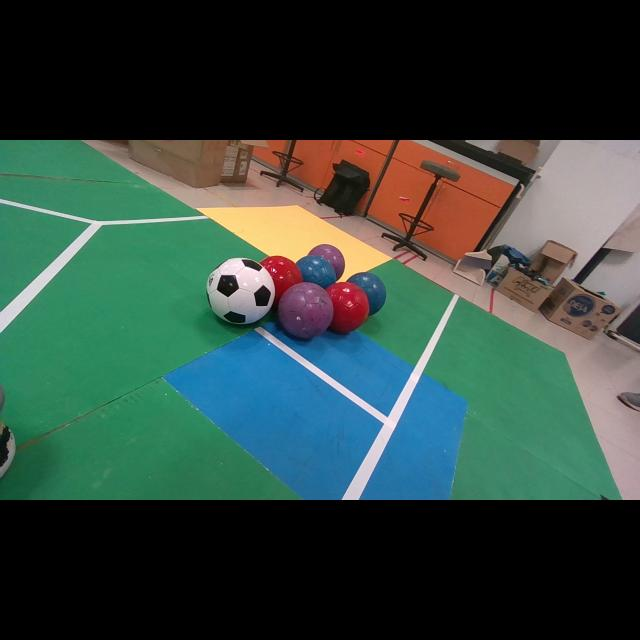B: (348, 272, 386, 314), (296, 255, 336, 289)
P: (278, 282, 334, 339), (309, 244, 345, 279)
R: (326, 282, 369, 334), (260, 255, 302, 307)
